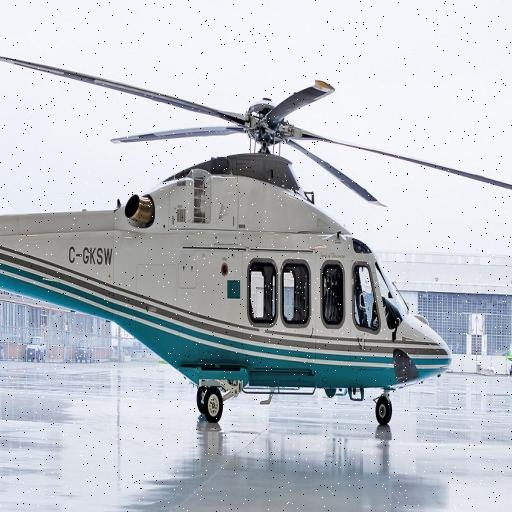helicopter: (1, 11, 512, 427)
